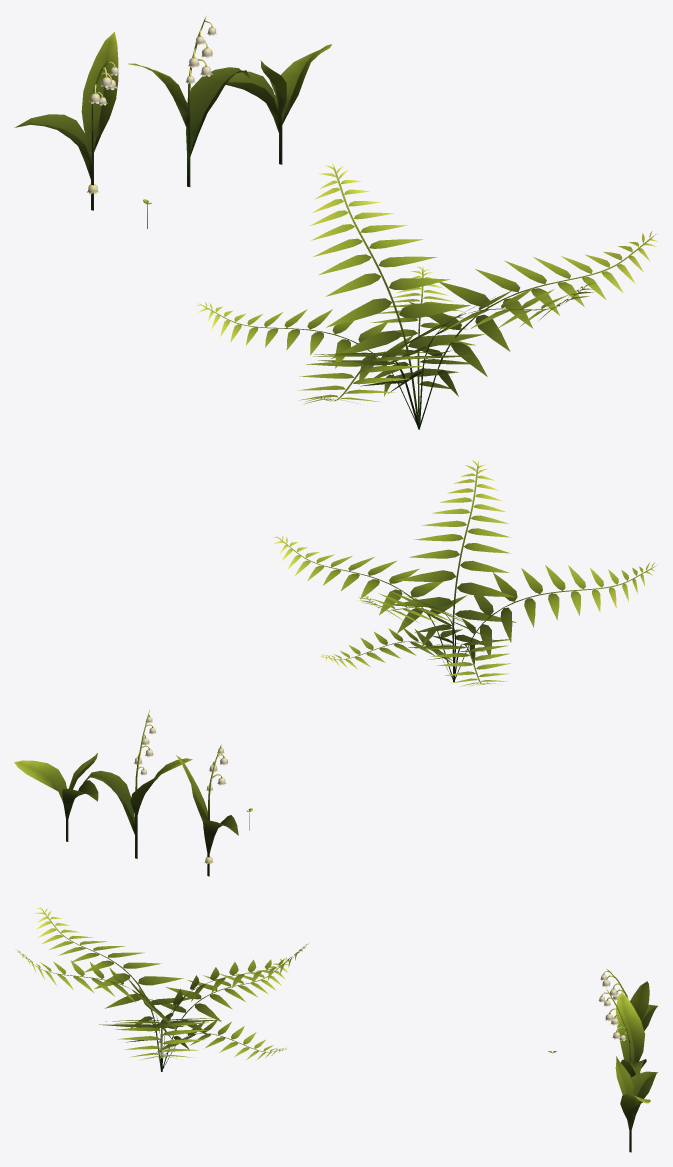
Rendered from Plants.fbx.
3 renders of one model, top to bottom at view 1: azimuth 30°, elevation 25°; view 2: azimuth 150°, elevation 25°; view 3: azimuth 270°, elevation 25°, orthographic. The views are drawn at different scales.
Parts seen in each view (by area): view 1: Fern_LOD0, Maiglock_A, Maiglock_B, Maiglock_C; view 2: Fern_LOD0, Maiglock_B, Maiglock_C, Maiglock_A; view 3: Fern_LOD0, Maiglock_B, Maiglock_C, Maiglock_A.
Boxes of the visible parts, box(x1,y1,x2,y2) form: Fern_LOD0: box(195, 162, 657, 429); Maiglock_A: box(14, 32, 119, 210); Maiglock_B: box(128, 15, 250, 186); Maiglock_C: box(226, 44, 331, 164); Fern_LOD0: box(272, 460, 657, 686); Maiglock_B: box(83, 710, 192, 858); Maiglock_C: box(14, 753, 98, 841); Maiglock_A: box(176, 744, 238, 876); Fern_LOD0: box(15, 906, 308, 1071); Maiglock_B: box(598, 987, 646, 1079); Maiglock_C: box(615, 1056, 657, 1152); Maiglock_A: box(600, 969, 658, 1030).
Size of what is drawn, in the model's own units: 46.7 by 22.85 by 82.51.
2 materials, 2 textured.
